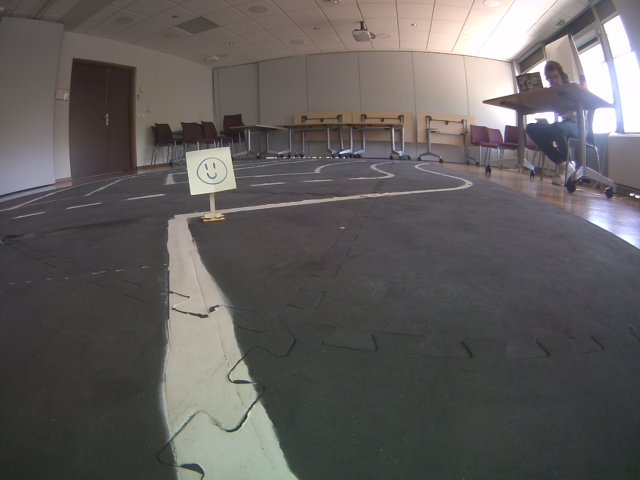Smiley: (185, 147, 239, 195)
